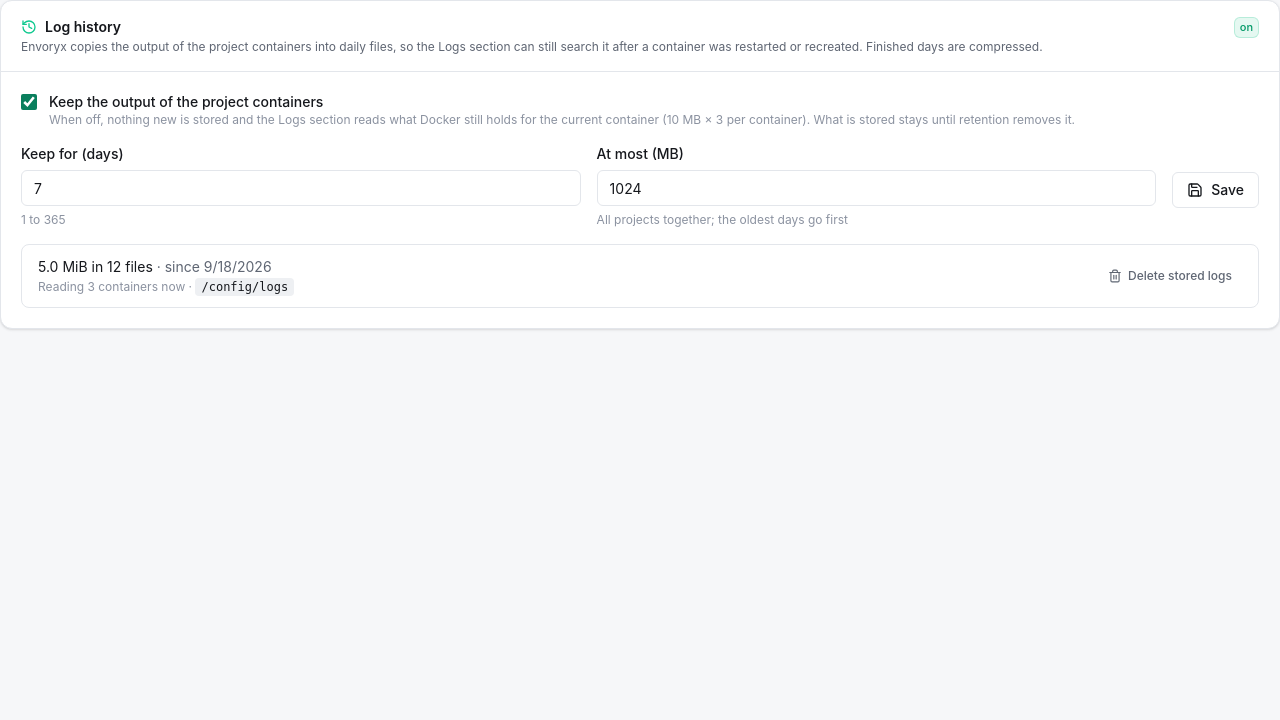
Test case: LogHistoryCard › shows the usage, saves retention, switches off and deletes the history
The width and height of the screenshot is (1280, 720).
Expected: the text "5.0 MiB in 12 files" is shown, [38, 258, 153, 275]
Expected: the text "Reading 3 containers now" is shown, [38, 279, 185, 294]
Replace the text in the number field labelled "Keep for (days)" with "30" at (301, 188), box [21, 170, 581, 206]
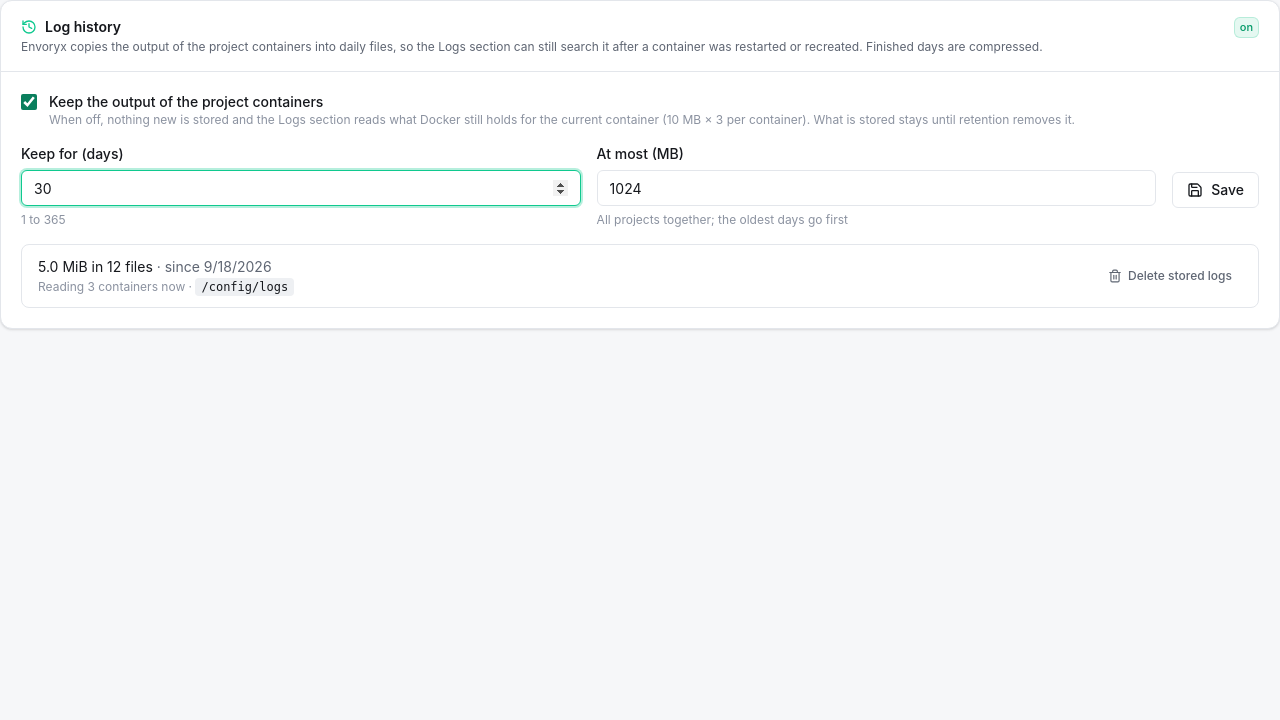
Click the button "Save".
click(1216, 190)  # box [1172, 172, 1259, 208]
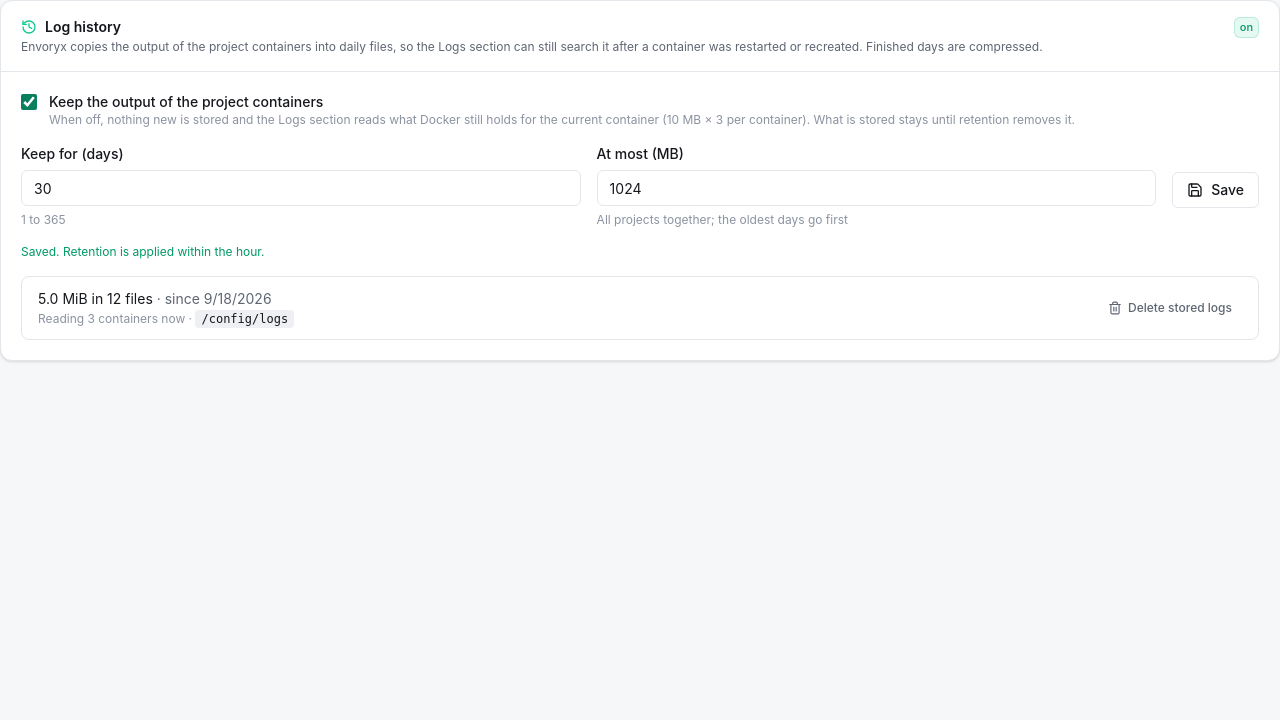
Expected: the text "Saved. Retention is applied within the hour." is shown, [21, 244, 265, 259]
Click the checkbox labelled "Keep the output of the project containers".
click(29, 102)  # box [21, 94, 37, 110]
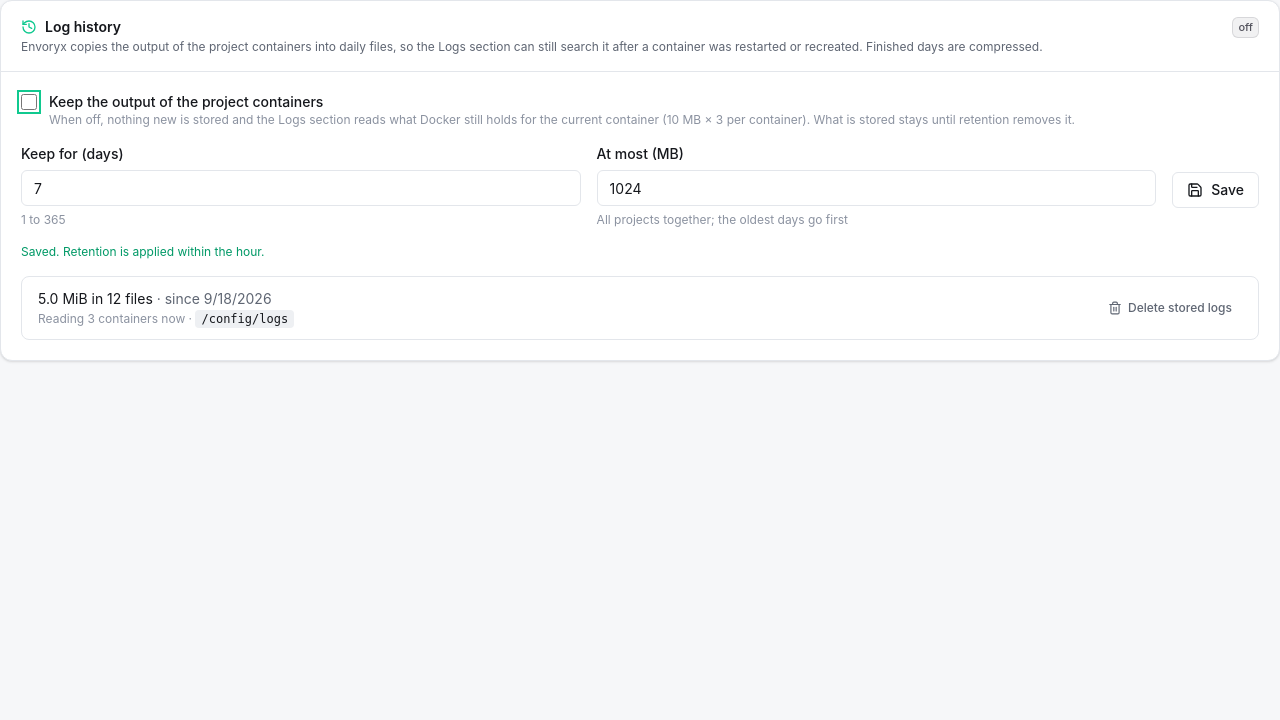
Expected: the text "off" is shown, [1232, 17, 1259, 38]
Click the button "Delete stored logs".
click(1170, 308)  # box [1098, 292, 1242, 324]
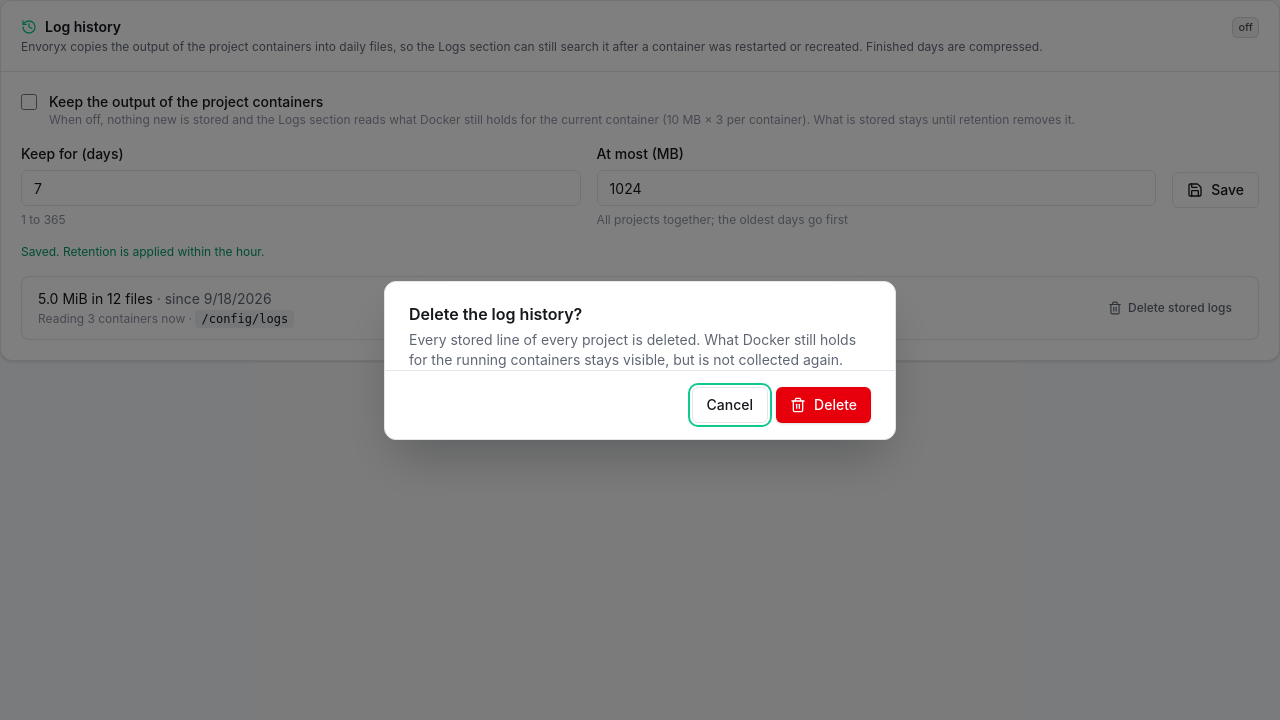
Click the button "Delete".
click(824, 404)  # box [776, 386, 871, 422]
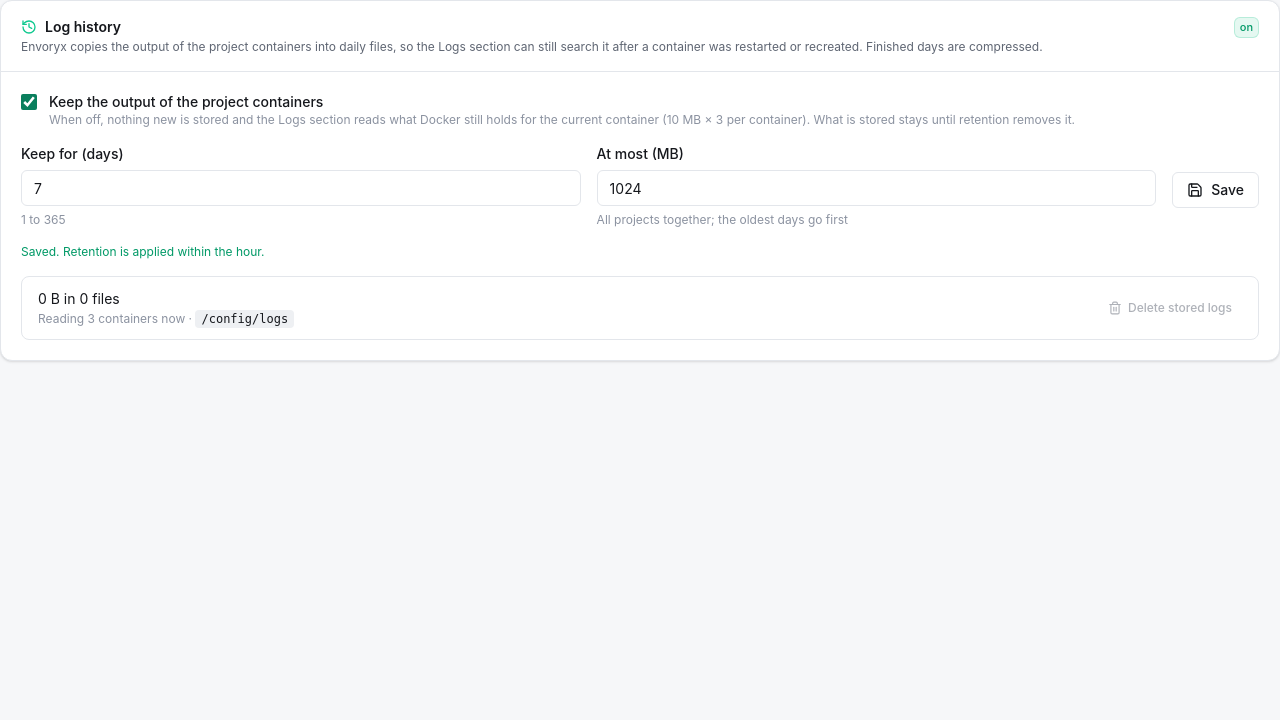
Expected: the text "0 B in 0 files" is shown, [38, 290, 120, 307]
